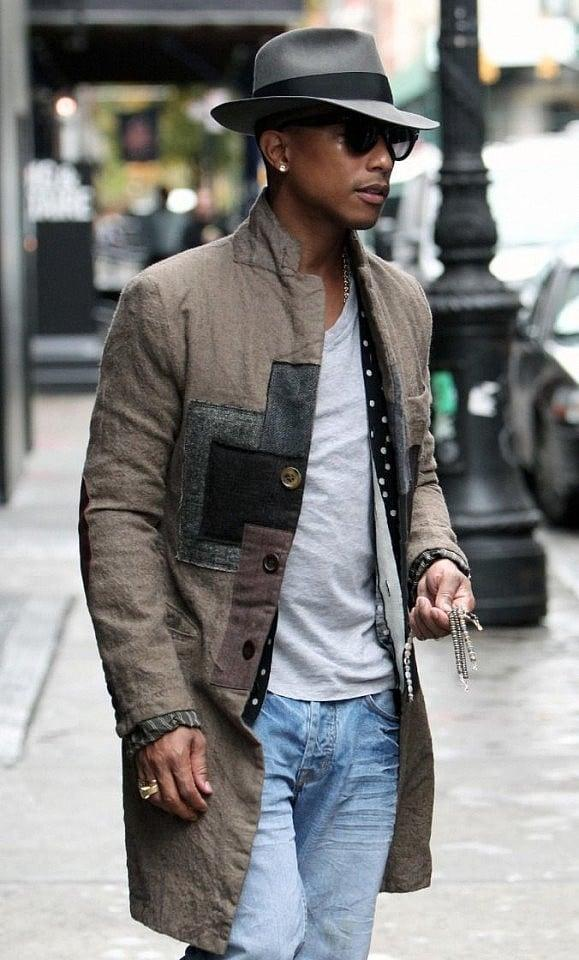cap: (213, 15, 448, 158)
sunglasses: (320, 110, 430, 163)
